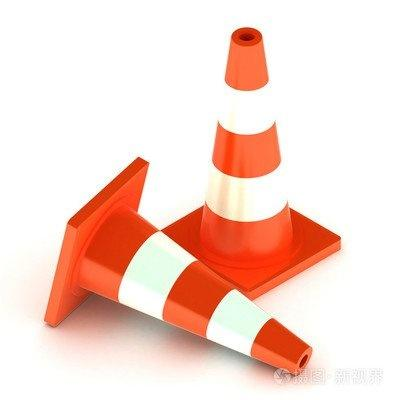cone_barrel: (54, 191, 313, 377), (192, 26, 297, 286)
